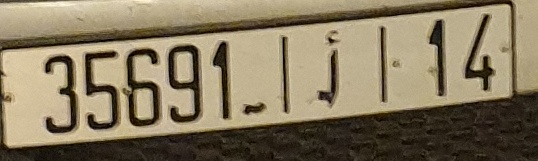1: (426, 18, 451, 98), (209, 40, 233, 121)
3: (43, 54, 79, 134)
4: (462, 12, 499, 92)
5: (82, 50, 121, 132)
6: (125, 47, 162, 128)
9: (167, 41, 203, 124)
a: (322, 28, 344, 109)
